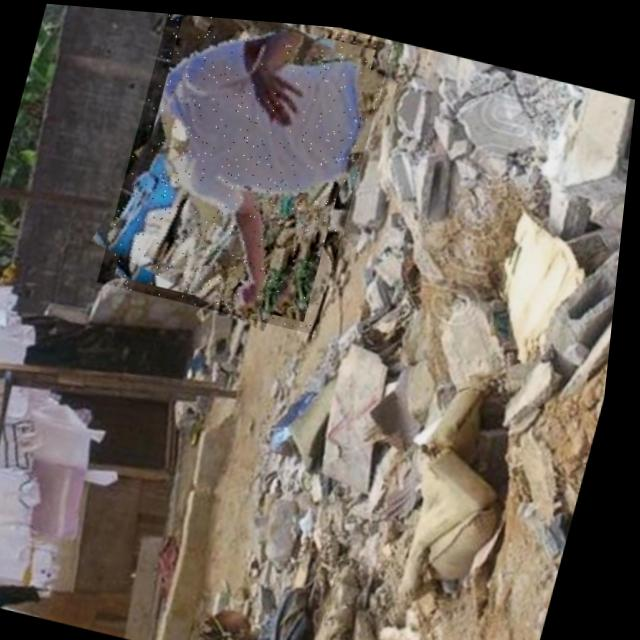Person in Rubble: (100, 8, 394, 331)
